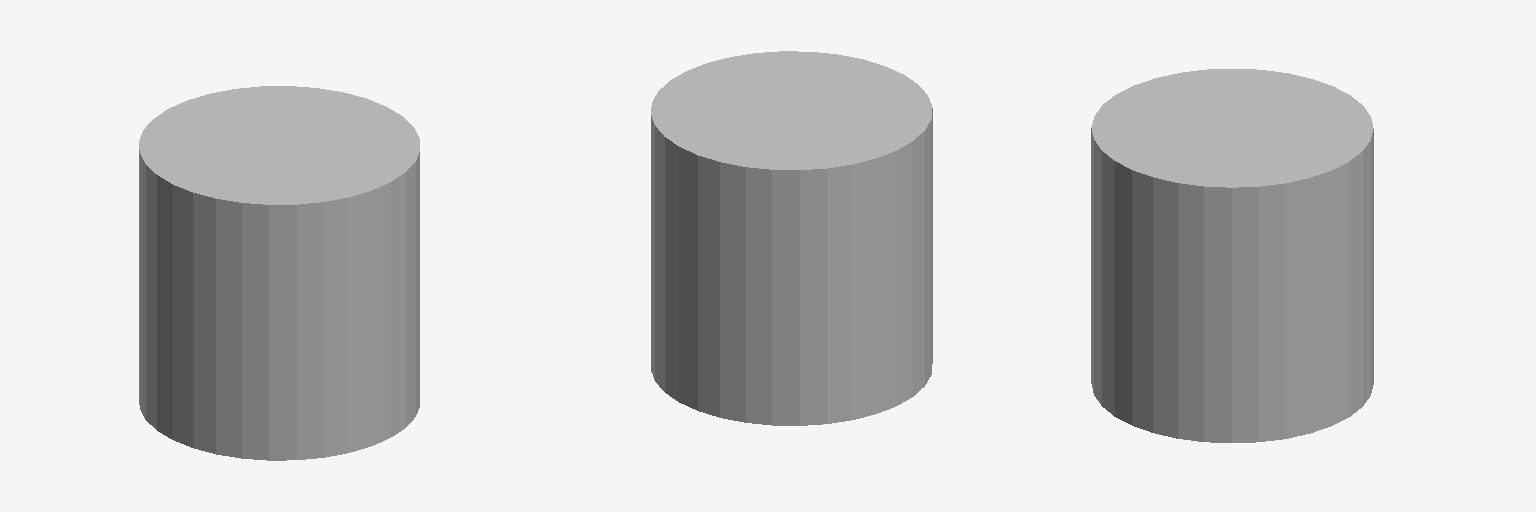
File: beacon4.obj
3 views of the same model, side by side, from view 1: azimuth 30°, elevation 25°; view 2: azimuth 150°, elevation 25°; view 3: azimuth 270°, elevation 25° (orthographic).
Visible parts, largest first — view 1: Beacon4_Cylinder.006; view 2: Beacon4_Cylinder.006; view 3: Beacon4_Cylinder.006.
Boxes of the visible parts, x1=… form: Beacon4_Cylinder.006: x1=139, y1=86, x2=419, y2=460; Beacon4_Cylinder.006: x1=651, y1=51, x2=932, y2=425; Beacon4_Cylinder.006: x1=1091, y1=69, x2=1373, y2=442.
Bounding box in the file's own units: 0.0015 × 0.0015 × 0.002.